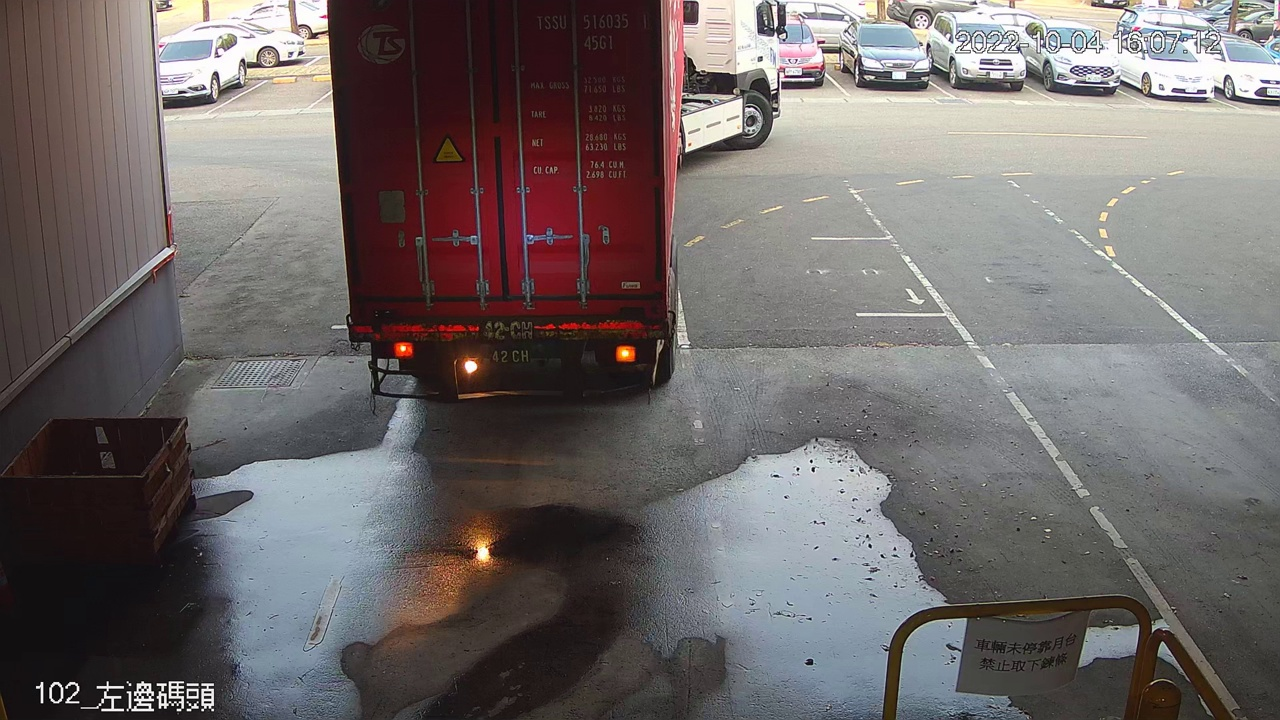container: (530, 7, 655, 54)
